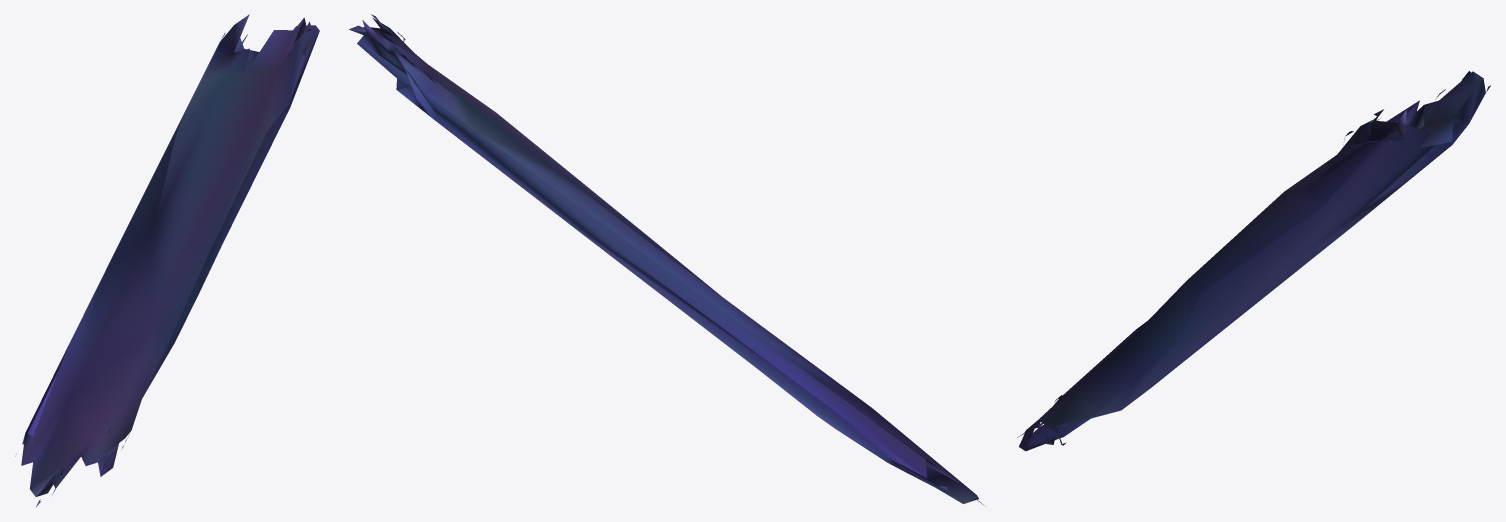
File: microscopic-dust-particles-glass-shard_v2.glb
3 views of the same model, side by side, from view 1: azimuth 30°, elevation 25°; view 2: azimuth 150°, elevation 25°; view 3: azimuth 270°, elevation 25° (orthographic). The views are drawn at different scales.
Visible parts, largest first — view 1: Glass Shard_v2; view 2: Glass Shard_v2; view 3: Glass Shard_v2.
Boxes of the visible parts, x1=… form: Glass Shard_v2: x1=15, y1=14, x2=319, y2=506; Glass Shard_v2: x1=349, y1=14, x2=985, y2=506; Glass Shard_v2: x1=1017, y1=71, x2=1490, y2=451.
Size of the model in its own units: 0.5 by 0.4301 by 0.2764.
